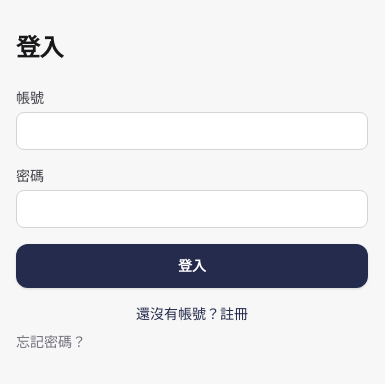
Test: Change 25: LoginPage › shows an error on invalid credentials
The width and height of the screenshot is (385, 384).
In the field labelled "帳號": [192, 131] box top-left (16, 112), bottom-right (368, 150), type "alice"
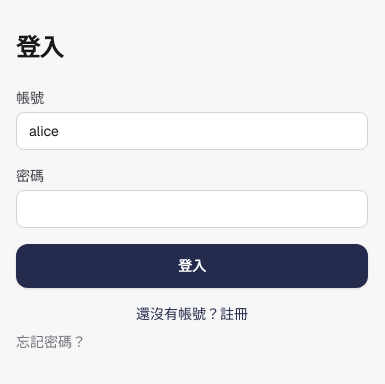
In the password field labelled "密碼": [192, 209] box top-left (16, 190), bottom-right (368, 228), type "bad"
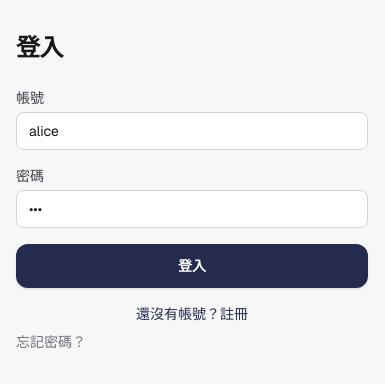
Click the button "登入": [192, 266] box top-left (16, 244), bottom-right (368, 288)
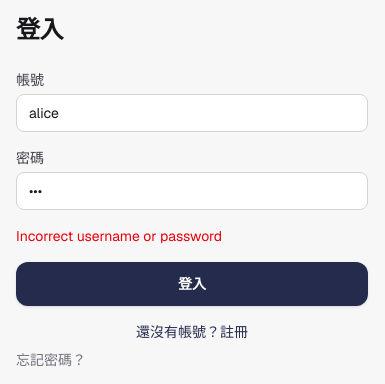
Expected: the message reads "Incorrect username or password", top-left (16, 227), bottom-right (222, 245)
